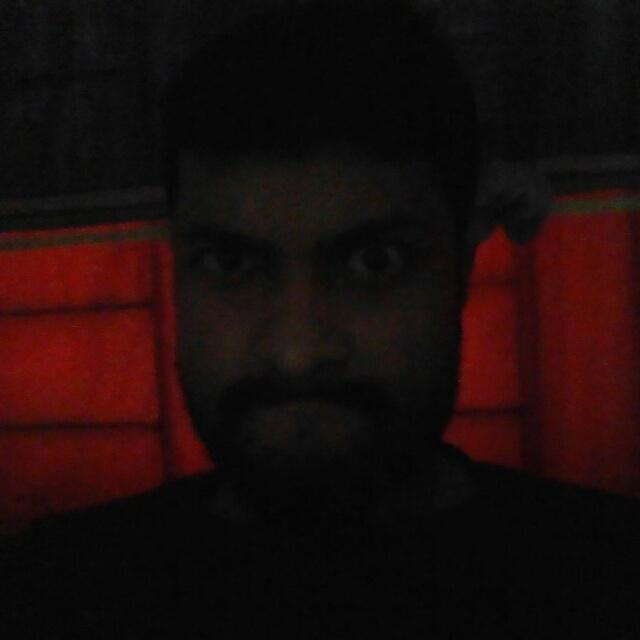Angry: (115, 133, 500, 552)
